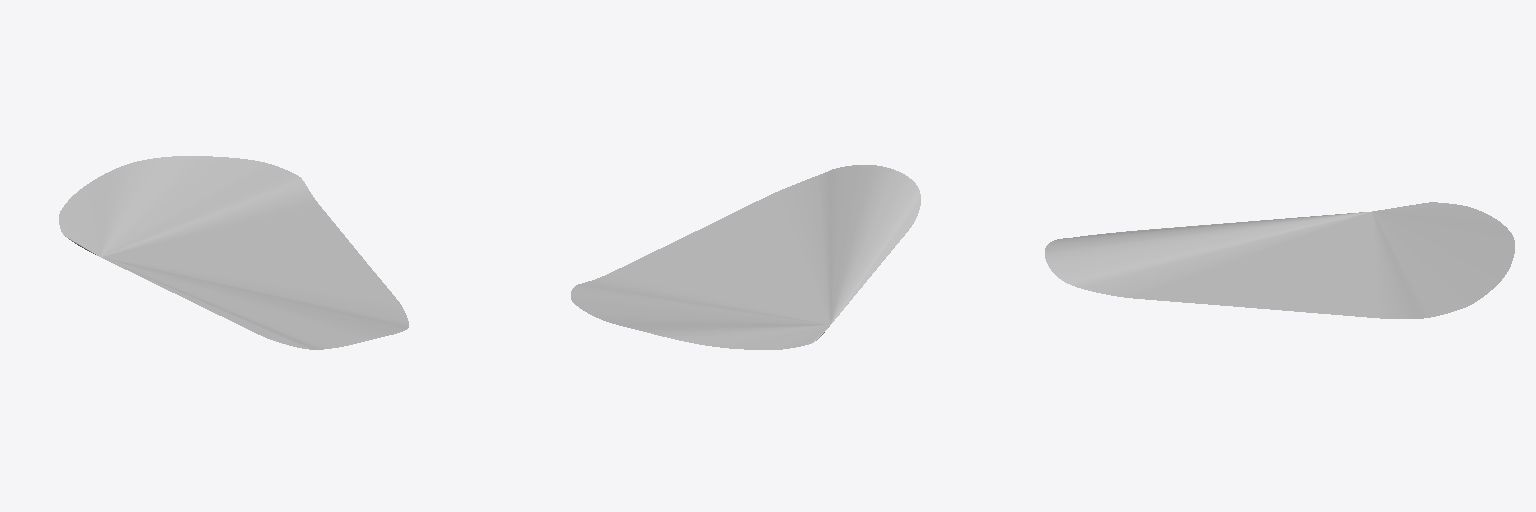
The model's file is AI_waypoints_6.obj.
The picture shows the model from 3 angles: view 1: azimuth 30°, elevation 25°; view 2: azimuth 150°, elevation 25°; view 3: azimuth 270°, elevation 25°; orthographic projection.
Visible parts, largest first — view 1: Waypoints6_Waypoints1.007; view 2: Waypoints6_Waypoints1.007; view 3: Waypoints6_Waypoints1.007.
Boxes of the visible parts, x1,y1,x2,y2 form: Waypoints6_Waypoints1.007: [59, 156, 408, 349]; Waypoints6_Waypoints1.007: [571, 165, 920, 349]; Waypoints6_Waypoints1.007: [1045, 202, 1514, 318].
Size of the model in its own units: 187 by 13.03 by 321.